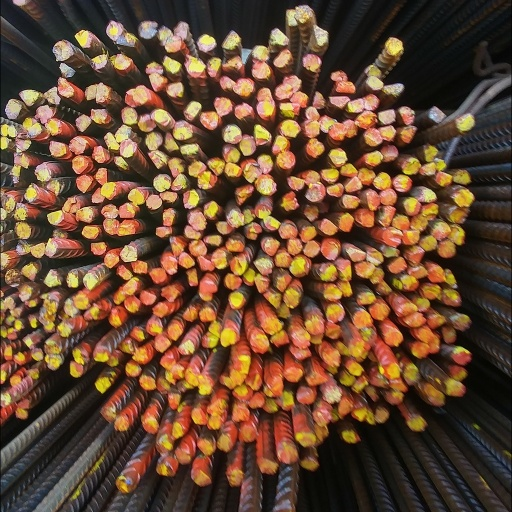dipstick: (400, 245, 426, 265), (51, 39, 73, 60), (169, 121, 193, 140), (251, 122, 270, 146), (293, 4, 314, 25), (273, 48, 294, 69), (325, 302, 345, 324), (312, 23, 331, 46), (323, 237, 342, 260), (289, 343, 313, 361), (454, 113, 475, 133), (302, 52, 322, 73), (269, 133, 290, 153), (54, 77, 73, 99), (233, 185, 255, 204), (255, 457, 277, 476), (384, 35, 402, 58), (184, 57, 204, 77), (152, 108, 172, 128), (393, 275, 418, 291), (262, 316, 283, 335), (426, 262, 444, 284), (252, 258, 274, 276), (276, 445, 299, 462), (447, 315, 471, 331), (384, 81, 404, 100), (251, 60, 271, 79), (199, 110, 219, 129), (212, 95, 231, 115), (303, 138, 323, 157), (305, 182, 324, 202), (357, 208, 376, 228), (206, 156, 226, 175), (289, 257, 309, 276), (360, 128, 381, 146), (355, 110, 377, 127), (195, 170, 217, 187), (115, 219, 137, 236), (277, 149, 296, 168), (419, 143, 438, 162), (437, 239, 456, 258), (256, 175, 275, 194), (442, 289, 461, 308), (189, 407, 208, 426), (123, 295, 142, 314), (43, 352, 62, 371), (147, 150, 166, 169), (143, 130, 162, 149), (269, 28, 289, 46), (119, 104, 137, 124), (222, 125, 242, 143), (237, 136, 257, 154), (362, 149, 380, 169), (378, 145, 398, 163), (401, 157, 421, 175), (384, 227, 404, 245), (307, 318, 327, 336), (195, 34, 216, 51), (136, 20, 157, 37), (183, 100, 200, 121), (447, 224, 464, 245), (281, 287, 298, 308), (270, 331, 291, 348), (285, 363, 302, 384), (225, 467, 242, 488), (391, 175, 413, 191), (281, 120, 300, 138), (73, 29, 92, 47), (454, 189, 473, 207), (430, 221, 449, 239), (447, 378, 465, 397), (357, 288, 375, 307), (299, 385, 317, 404), (191, 469, 210, 487), (216, 435, 234, 454), (231, 403, 249, 422), (113, 476, 132, 494), (138, 373, 157, 391), (370, 301, 390, 318), (223, 273, 243, 290), (314, 407, 331, 427), (108, 307, 125, 327), (56, 62, 77, 78), (351, 309, 372, 325), (272, 268, 288, 289), (364, 249, 386, 264), (185, 240, 207, 255), (163, 133, 178, 155), (378, 124, 396, 142), (233, 103, 251, 121), (242, 161, 260, 179), (250, 335, 268, 353), (140, 416, 158, 434), (225, 209, 243, 227), (162, 55, 179, 74), (373, 172, 392, 189), (304, 239, 321, 258), (93, 377, 112, 394), (188, 211, 207, 228), (115, 264, 134, 281), (87, 108, 106, 125), (45, 118, 64, 135), (328, 95, 351, 109), (279, 101, 299, 117), (233, 79, 253, 95), (224, 30, 240, 50), (173, 21, 189, 41), (363, 190, 379, 210), (338, 212, 354, 232), (346, 247, 366, 263), (238, 426, 258, 442), (104, 132, 120, 152), (4, 99, 20, 119), (337, 258, 352, 279), (215, 220, 236, 235), (169, 235, 184, 256), (161, 254, 176, 275), (380, 207, 394, 229), (429, 106, 446, 124), (399, 126, 416, 144), (328, 123, 345, 141), (112, 54, 129, 72), (120, 89, 137, 107), (133, 86, 150, 104), (327, 148, 345, 165), (421, 202, 439, 219), (391, 213, 409, 230), (441, 269, 458, 287), (422, 283, 440, 300), (318, 263, 335, 281), (264, 237, 281, 255), (292, 329, 309, 347), (276, 303, 294, 320), (229, 257, 247, 274), (227, 290, 244, 308), (196, 438, 213, 456), (156, 460, 174, 477), (146, 317, 164, 334), (54, 319, 71, 337), (100, 218, 117, 236), (76, 207, 94, 224), (14, 132, 31, 150), (18, 263, 36, 280), (282, 74, 301, 90), (336, 79, 355, 95), (279, 223, 298, 239), (355, 260, 374, 276), (324, 283, 343, 299), (348, 339, 367, 355), (98, 407, 117, 423), (70, 346, 89, 362), (183, 225, 202, 241), (182, 192, 201, 208), (115, 125, 134, 141), (91, 145, 107, 164), (282, 7, 297, 27), (321, 220, 341, 235), (296, 431, 316, 446), (267, 378, 282, 398), (220, 145, 241, 159), (325, 184, 346, 198), (406, 313, 427, 327), (405, 418, 426, 432), (18, 90, 39, 104), (397, 106, 414, 123), (257, 100, 274, 117), (165, 81, 182, 98), (435, 170, 452, 187), (450, 364, 467, 381), (267, 291, 284, 308), (219, 330, 236, 347), (154, 335, 171, 352), (212, 250, 229, 267), (177, 253, 194, 270), (149, 267, 166, 284), (130, 260, 147, 277), (120, 140, 137, 157), (165, 36, 181, 54), (147, 70, 163, 88), (138, 113, 154, 131), (450, 207, 468, 223), (410, 214, 428, 230), (253, 202, 271, 218), (385, 330, 403, 346), (275, 251, 293, 267), (326, 323, 342, 341), (102, 252, 120, 268), (100, 203, 118, 219), (72, 156, 88, 174), (47, 141, 65, 157), (74, 114, 90, 132), (13, 223, 31, 239), (224, 57, 243, 72), (320, 167, 339, 182), (224, 161, 243, 176), (299, 225, 318, 240), (286, 239, 305, 254), (342, 427, 361, 442), (278, 391, 293, 410), (224, 236, 243, 251), (156, 25, 170, 45), (43, 238, 57, 258), (89, 56, 110, 69), (365, 76, 382, 92), (252, 44, 268, 61), (275, 83, 291, 100), (291, 91, 307, 108), (319, 115, 336, 131), (452, 169, 469, 185), (345, 177, 362, 193), (284, 192, 300, 209), (258, 154, 274, 171), (389, 256, 406, 272), (418, 325, 434, 342), (428, 388, 444, 405), (301, 456, 318, 472), (234, 355, 250, 372), (12, 151, 29, 167), (378, 109, 396, 124), (144, 60, 162, 75), (402, 198, 420, 213), (452, 348, 470, 363), (382, 363, 400, 378), (241, 268, 256, 286), (183, 368, 198, 386), (161, 286, 179, 301), (203, 202, 218, 220), (196, 256, 214, 271), (68, 138, 86, 153), (47, 210, 65, 225), (234, 387, 253, 401), (196, 375, 210, 394), (168, 323, 182, 342), (138, 291, 157, 305), (203, 234, 222, 248), (185, 162, 204, 176), (152, 175, 171, 189), (34, 106, 53, 120), (178, 143, 200, 155), (206, 57, 219, 77), (382, 244, 402, 257), (1, 193, 14, 213), (303, 169, 319, 185), (381, 190, 397, 206), (421, 235, 437, 251), (253, 276, 269, 292), (324, 352, 340, 368), (386, 390, 402, 406), (155, 437, 171, 453), (112, 416, 128, 432), (166, 158, 182, 174), (118, 202, 134, 218), (63, 197, 79, 213), (363, 94, 378, 111), (216, 74, 233, 89), (105, 22, 122, 37), (360, 168, 375, 185), (316, 197, 331, 214), (263, 217, 280, 232), (409, 264, 426, 279), (337, 281, 354, 296), (245, 374, 262, 389), (171, 426, 188, 441), (176, 448, 191, 465), (101, 183, 116, 200), (47, 178, 62, 195), (366, 66, 384, 80), (95, 84, 109, 102), (418, 188, 436, 202), (369, 265, 383, 283), (198, 307, 216, 321), (345, 119, 358, 138), (340, 163, 359, 176), (342, 195, 361, 208), (186, 269, 199, 288), (44, 295, 57, 314), (51, 228, 70, 241), (304, 105, 320, 120), (305, 121, 320, 137), (257, 86, 273, 101), (443, 326, 458, 342), (413, 342, 429, 357), (307, 372, 323, 387), (339, 398, 351, 418), (323, 387, 338, 403), (314, 424, 329, 440), (262, 398, 278, 413), (206, 416, 222, 431), (155, 377, 170, 393), (124, 360, 139, 376), (245, 222, 260, 238), (122, 247, 138, 262), (81, 274, 97, 289), (65, 272, 81, 287), (44, 271, 59, 287), (73, 294, 88, 310), (90, 241, 106, 256), (127, 189, 142, 205), (76, 175, 91, 191), (3, 269, 19, 284), (16, 287, 36, 299), (118, 34, 135, 48), (419, 162, 436, 176), (403, 230, 420, 244), (304, 203, 318, 220), (375, 407, 389, 424), (228, 370, 245, 384), (200, 278, 217, 292), (177, 341, 194, 355), (171, 176, 188, 190), (16, 238, 30, 255), (311, 90, 324, 108), (329, 69, 347, 82), (209, 402, 227, 415), (114, 288, 127, 306), (347, 361, 362, 376), (93, 348, 108, 363), (104, 353, 119, 368), (201, 332, 216, 347), (68, 361, 83, 376), (287, 175, 303, 189), (375, 281, 391, 295), (427, 316, 443, 330), (340, 370, 354, 386), (249, 393, 263, 409), (219, 375, 235, 389), (183, 305, 197, 321), (160, 353, 176, 367), (152, 303, 168, 317), (133, 349, 149, 363), (162, 209, 176, 225), (113, 155, 127, 171), (44, 87, 58, 103), (347, 99, 364, 112), (169, 366, 186, 379), (160, 190, 177, 203), (42, 339, 60, 351), (95, 168, 107, 186), (119, 337, 134, 351), (146, 195, 161, 209), (165, 391, 178, 407), (242, 207, 255, 223), (87, 309, 103, 322), (29, 245, 45, 258), (394, 304, 417, 313), (406, 367, 418, 384), (390, 381, 408, 392), (123, 278, 137, 292), (13, 205, 27, 219), (155, 225, 170, 238), (91, 188, 104, 203), (35, 165, 48, 180), (198, 289, 214, 301), (129, 328, 145, 340), (82, 226, 98, 238), (25, 184, 36, 201), (84, 85, 97, 99), (416, 298, 429, 312), (22, 333, 35, 347), (0, 252, 10, 270), (208, 322, 221, 335), (63, 302, 77, 314), (5, 125, 17, 139), (355, 407, 366, 422), (15, 351, 26, 366), (21, 117, 34, 129), (29, 124, 41, 137), (2, 315, 14, 328), (3, 345, 13, 360), (14, 410, 29, 420), (26, 314, 37, 327), (5, 298, 17, 309), (30, 348, 41, 360), (436, 157, 446, 170), (7, 327, 18, 338), (11, 307, 22, 318), (0, 136, 8, 151), (14, 319, 24, 331), (24, 298, 37, 307), (21, 401, 34, 410), (9, 374, 19, 385), (354, 376, 361, 391), (0, 125, 8, 136)
